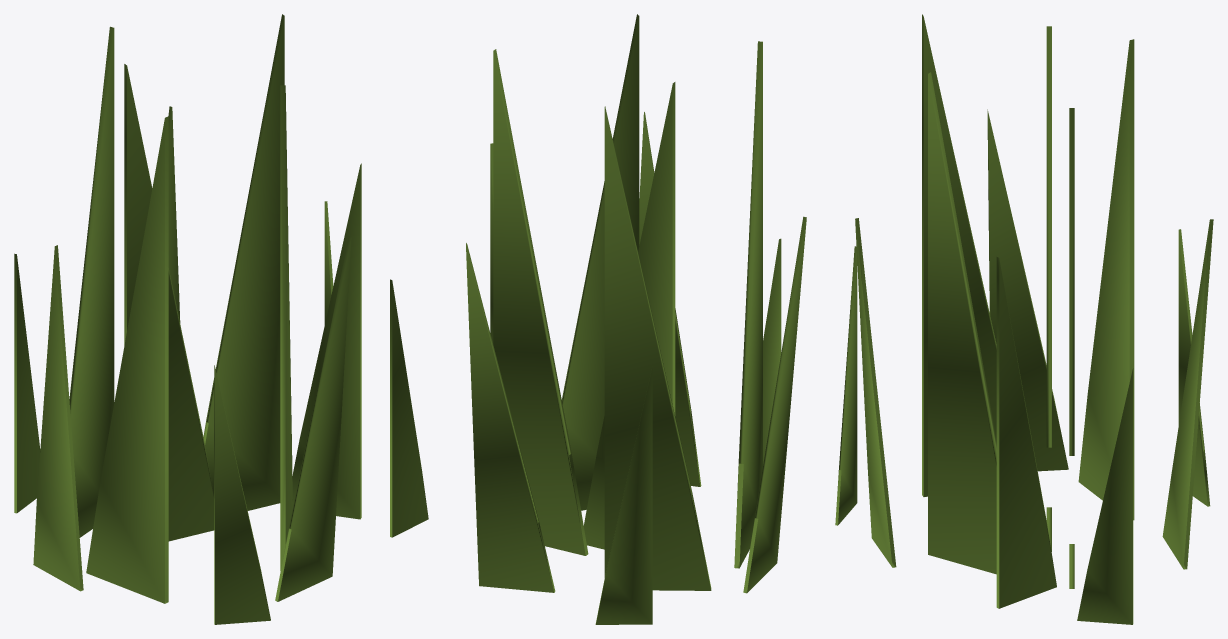
File: grassssss.fbx
3 renders of one model, left to right at view 1: azimuth 30°, elevation 25°; view 2: azimuth 150°, elevation 25°; view 3: azimuth 270°, elevation 25°, orthographic.
Parts seen in each view (by area): view 1: MSH_Grass; view 2: MSH_Grass; view 3: MSH_Grass.
Boxes of the visible parts, x1,y1,x2,y2 form: MSH_Grass: (14, 14, 361, 624); MSH_Grass: (390, 14, 806, 624); MSH_Grass: (835, 14, 1213, 624).
Bounding box in the file's own units: 149 × 200 × 143.
